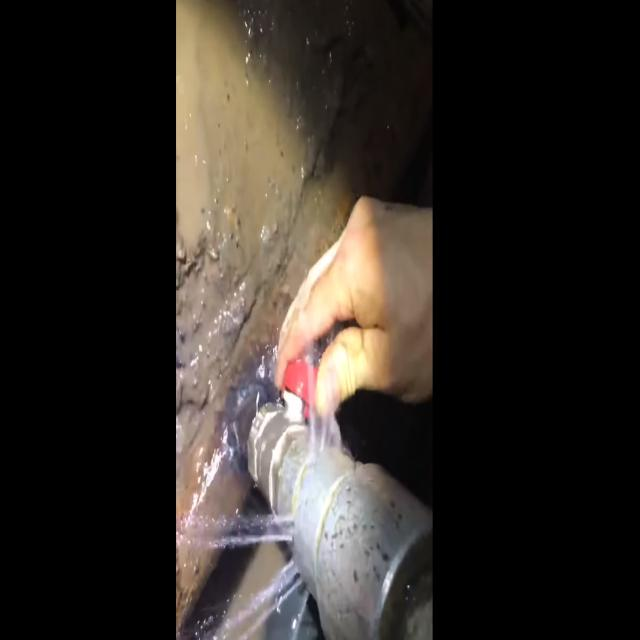leak: (214, 559, 302, 637), (301, 322, 354, 450), (176, 514, 294, 548), (291, 590, 309, 637)
